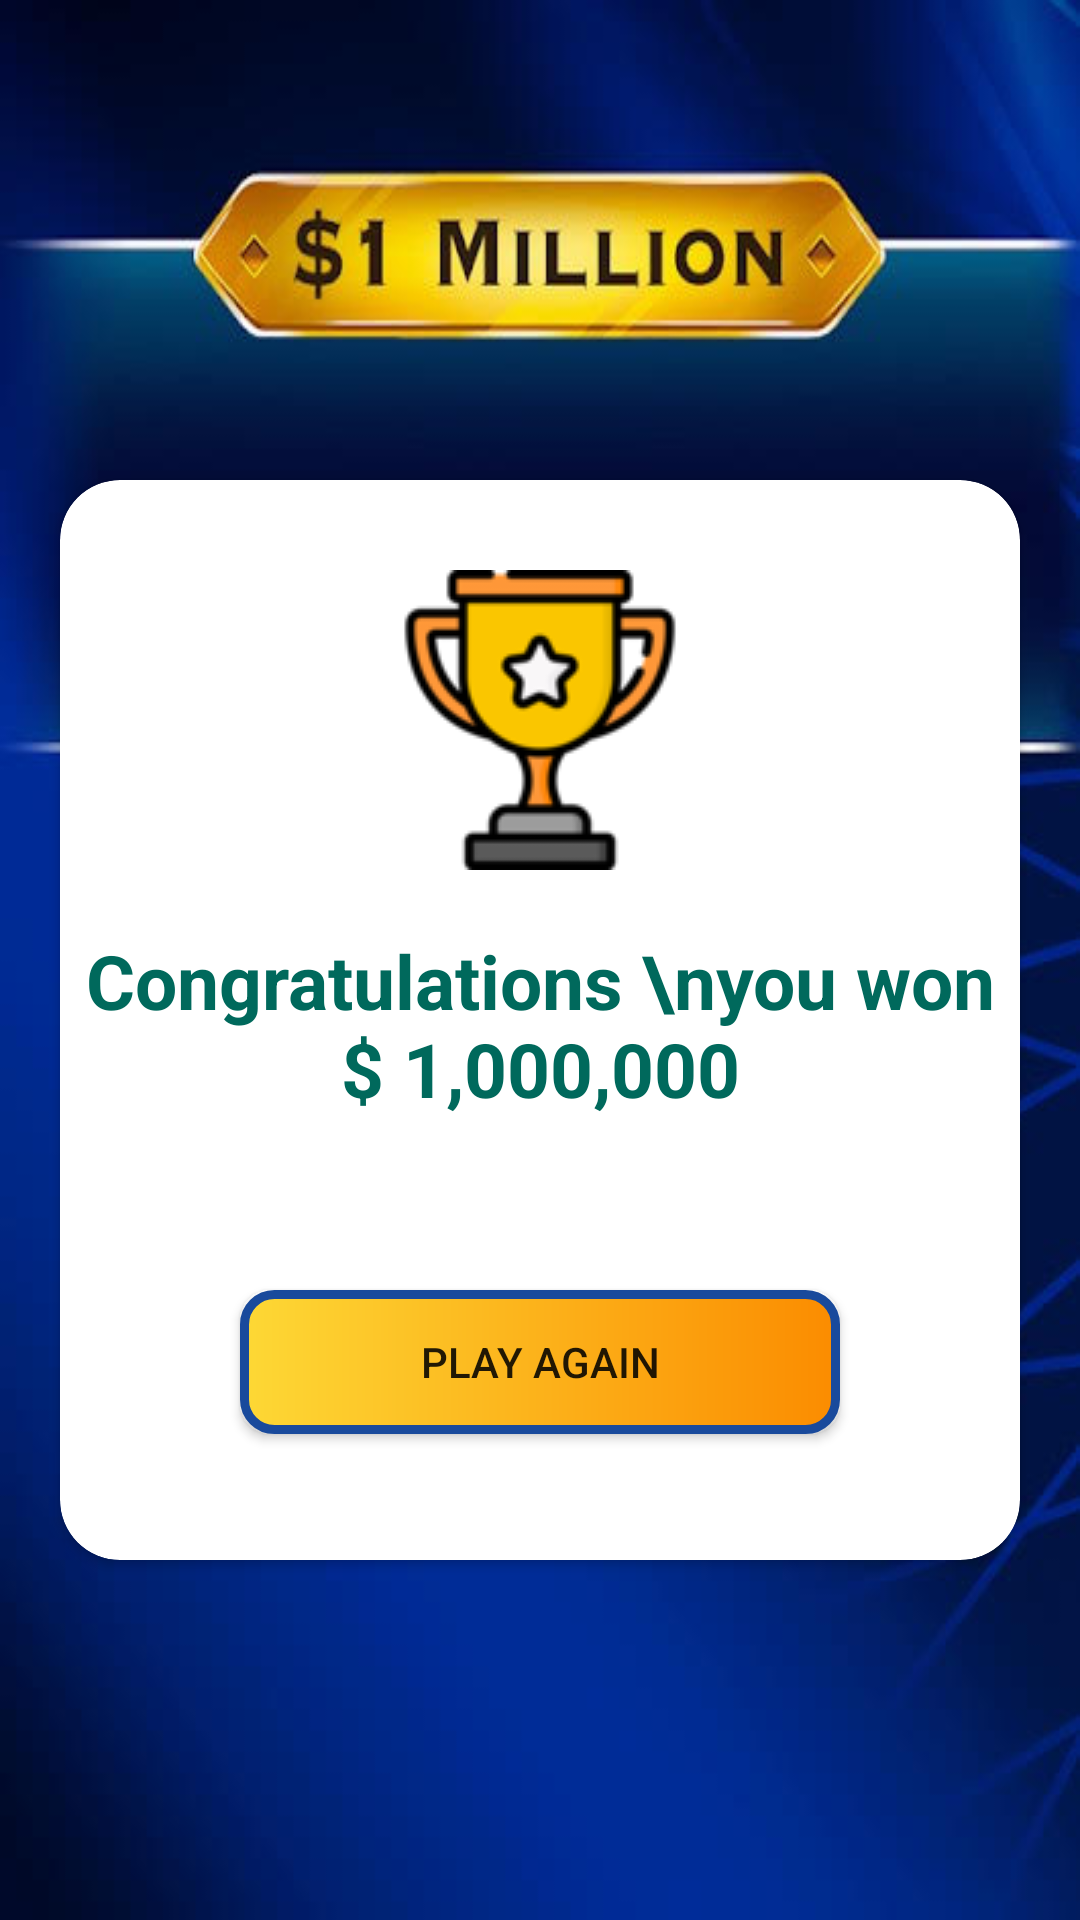

Screen size 1080×1920. Icon name, then its center in pixels as (x=x, y=y):
trophy win: (x=540, y=720)
